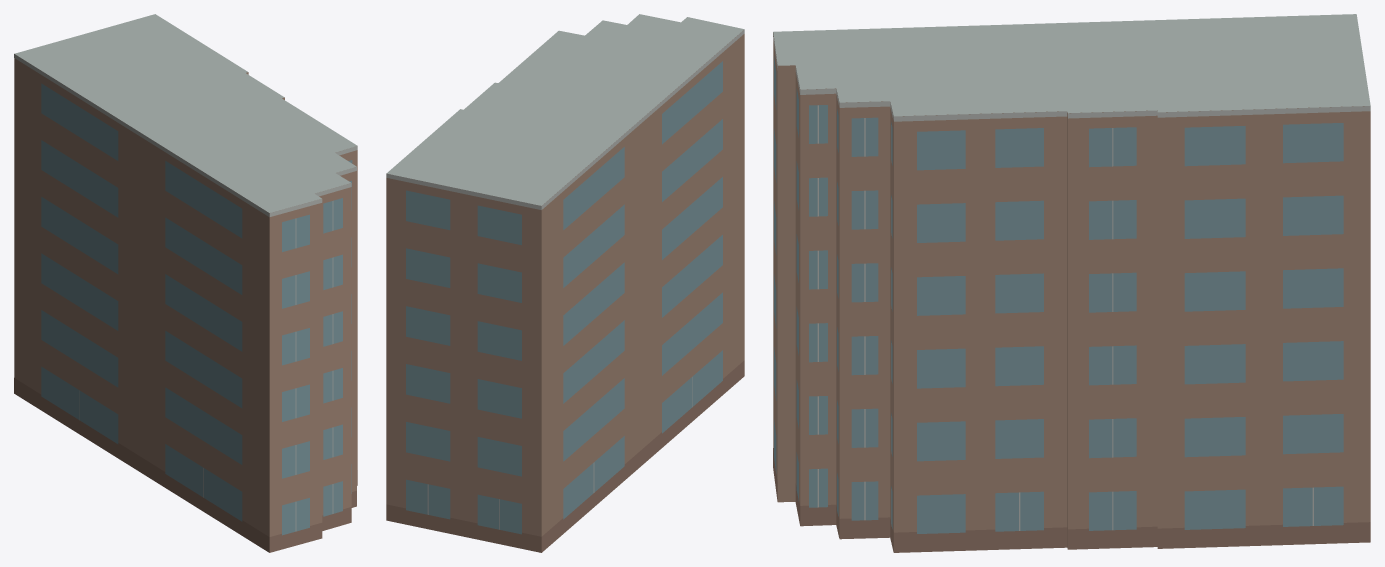
The model's file is survey-upis-32728440.glb.
3 renders of one model, left to right at view 1: azimuth 30°, elevation 25°; view 2: azimuth 150°, elevation 25°; view 3: azimuth 270°, elevation 25°, orthographic. The views are drawn at different scales.
Visible parts, largest first — view 1: survey-upis-32728440.tmp; view 2: survey-upis-32728440.tmp; view 3: survey-upis-32728440.tmp.
Part boxes in pixels (<box>): survey-upis-32728440.tmp: <box>14,14,357,552</box>; survey-upis-32728440.tmp: <box>386,14,744,552</box>; survey-upis-32728440.tmp: <box>773,14,1370,552</box>.
Size of the model in its own units: 10.05 by 19.96 by 24.77.
